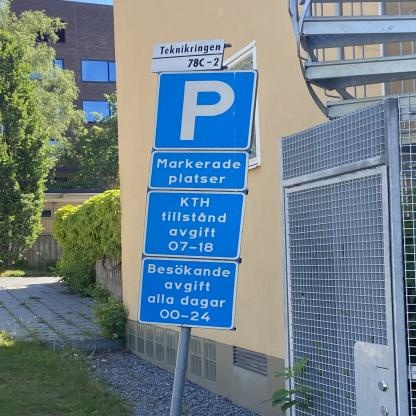P-skylt: (158, 73, 251, 149)
